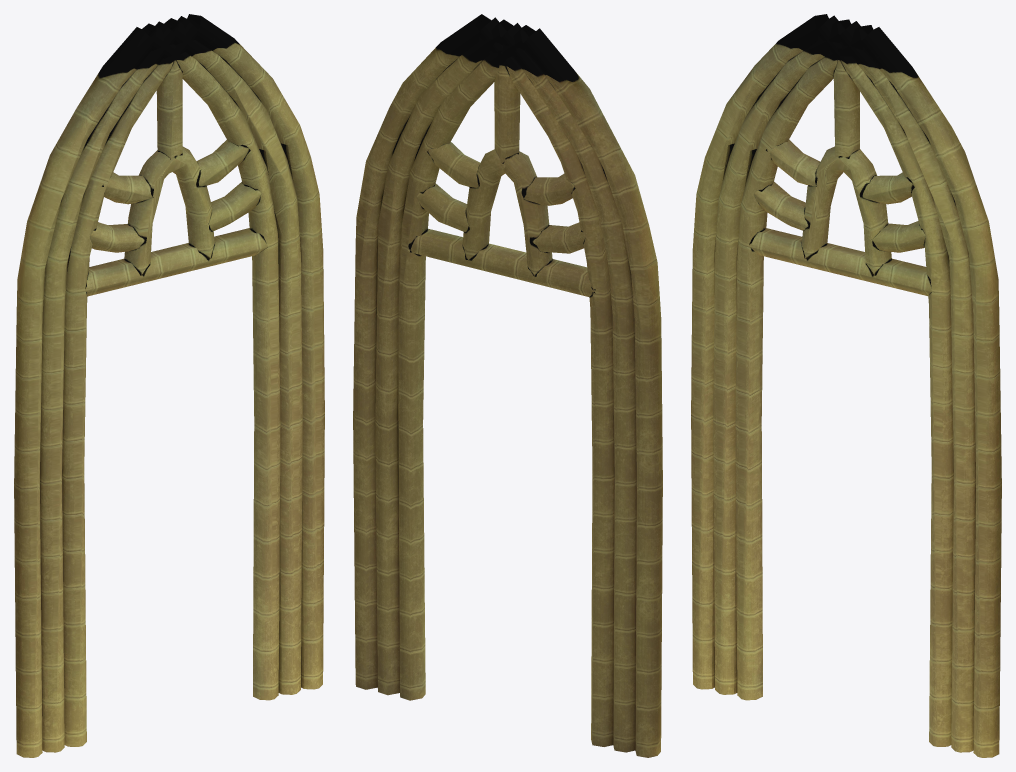
File: Bamboo Door_LOD3.glb
The picture shows the model from 3 angles, left to right: view 1: azimuth 30°, elevation 25°; view 2: azimuth 150°, elevation 25°; view 3: azimuth 330°, elevation 25°; orthographic projection.
Visible parts, largest first — view 1: Bamboo Door_PROCESSED.001_LOD3; view 2: Bamboo Door_PROCESSED.001_LOD3; view 3: Bamboo Door_PROCESSED.001_LOD3.
Boxes of the visible parts, x1,y1,x2,y2 form: Bamboo Door_PROCESSED.001_LOD3: [14, 14, 324, 757]; Bamboo Door_PROCESSED.001_LOD3: [353, 14, 662, 757]; Bamboo Door_PROCESSED.001_LOD3: [691, 14, 1001, 757].
Size of the model in its own units: 5.17 by 11.25 by 0.4232.
Materials: 1 (1 with a texture image).
